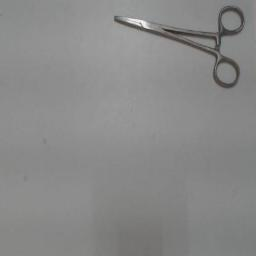Mayo Needle Holder: (104, 1, 248, 93)
